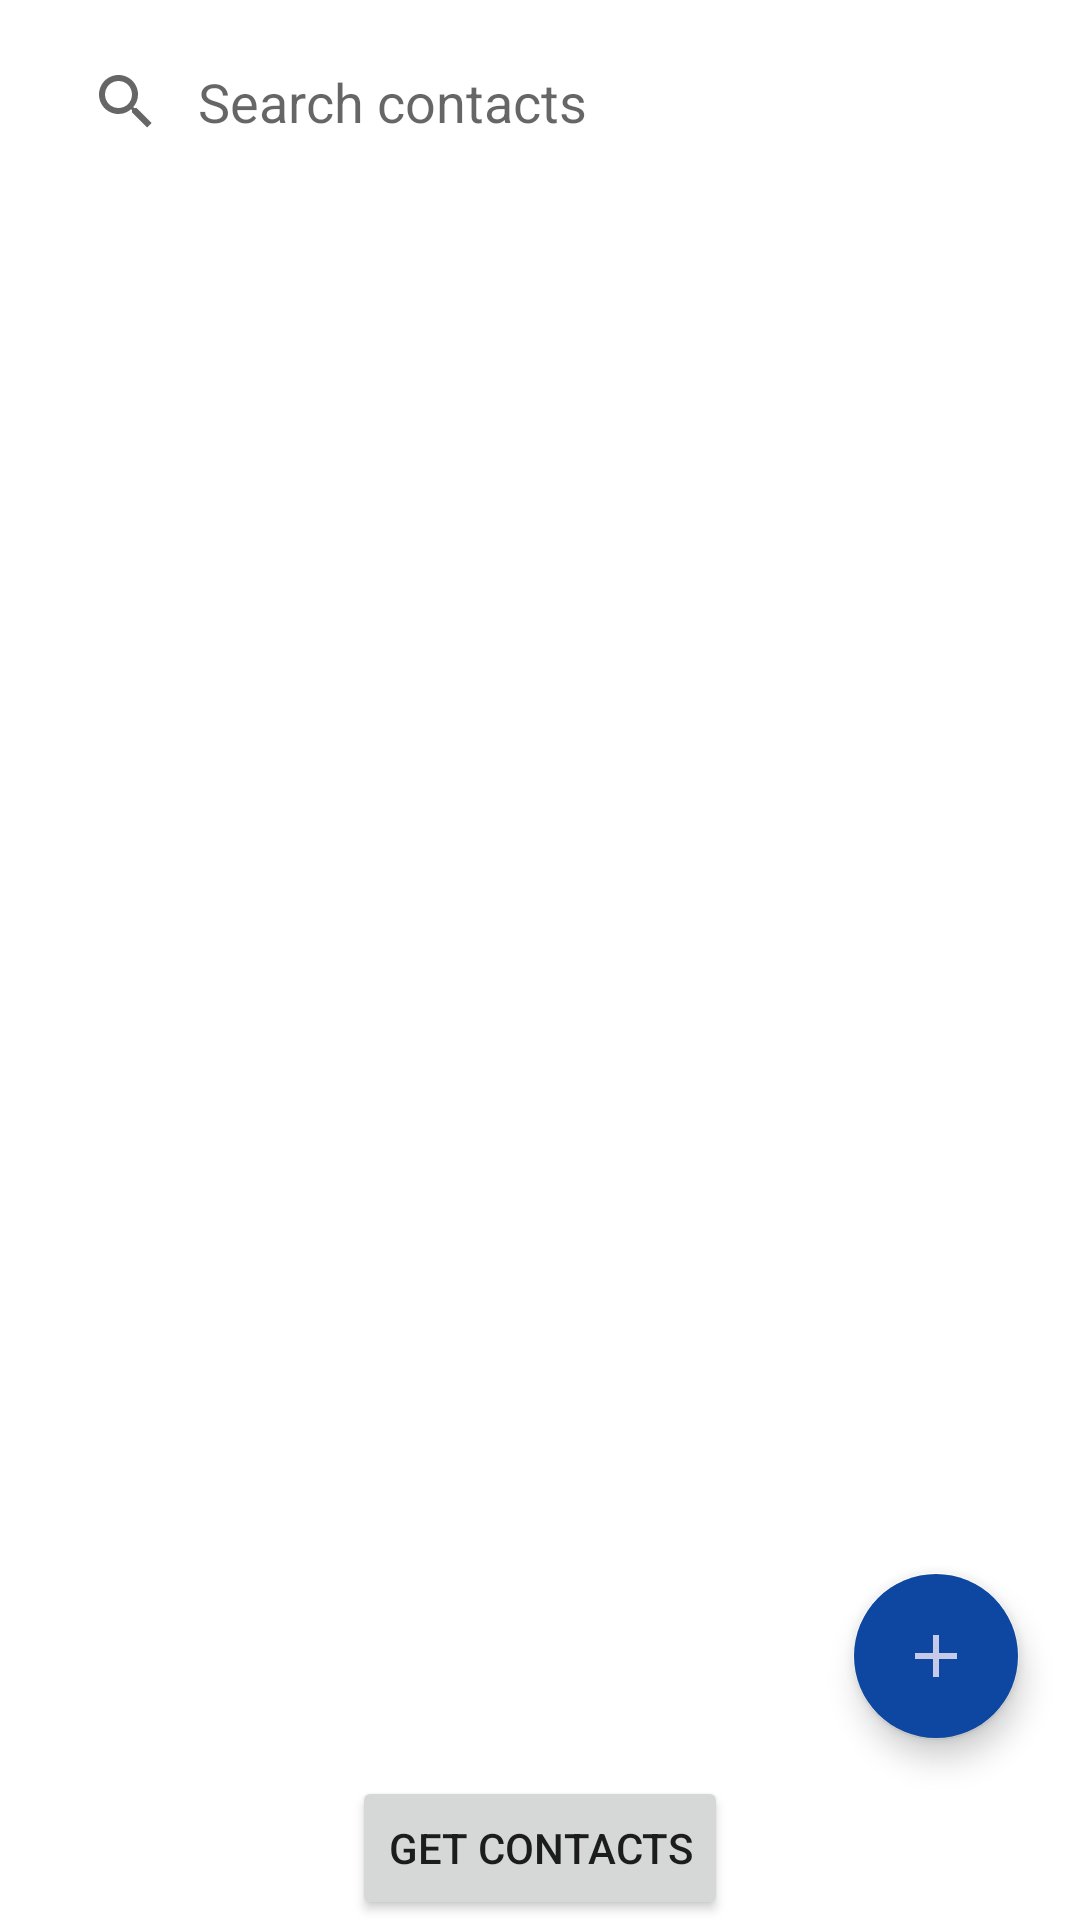

Named icons in this screenshot (1080*1920) and their centers, (x=x, y=y):
plus: (x=937, y=1657)
